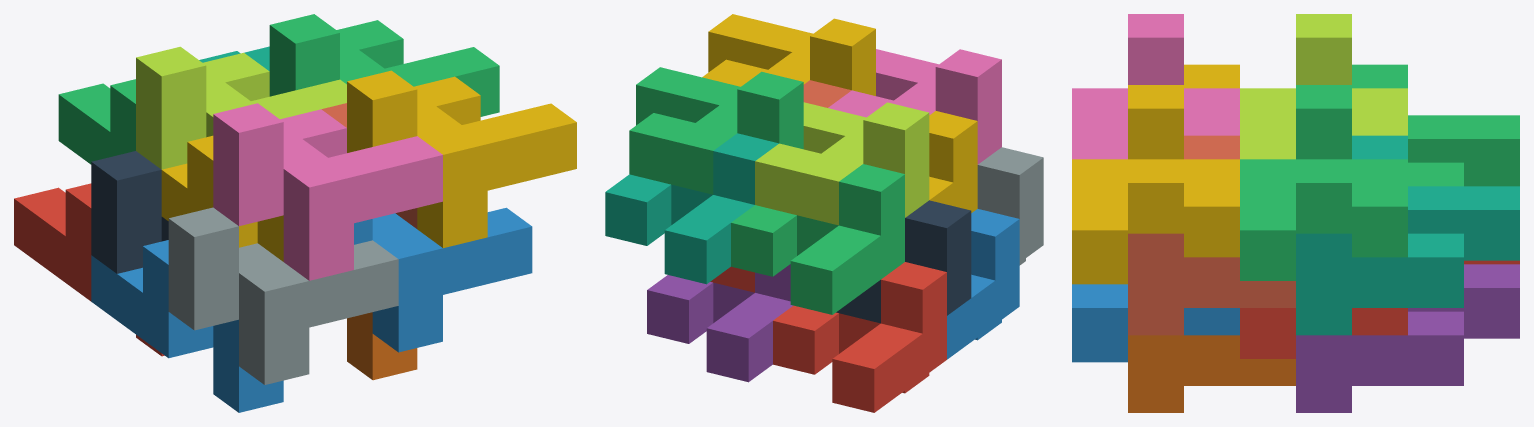
Rendered from tiling.obj.
3 renders of one model, left to right at view 1: azimuth 30°, elevation 25°; view 2: azimuth 150°, elevation 25°; view 3: azimuth 270°, elevation 25°, orthographic. The views are drawn at different scales.
Visible parts, largest first — view 1: copy_2_domain_4, copy_2_domain_2, copy_2_domain_8, copy_2_domain_3, copy_2_domain_6, copy_2_domain_7, copy_1_domain_2, copy_2_domain_1, copy_1_domain_1, copy_1_domain_3, copy_1_domain_4, copy_1_domain_6 (+2 smaller); view 2: copy_1_domain_3, copy_1_domain_1, copy_2_domain_7, copy_2_domain_3, copy_1_domain_7, copy_1_domain_5, copy_2_domain_8, copy_2_domain_4, copy_1_domain_2, copy_2_domain_1, copy_2_domain_2, copy_1_domain_4 (+2 smaller); view 3: copy_1_domain_7, copy_2_domain_8, copy_2_domain_7, copy_1_domain_5, copy_1_domain_8, copy_2_domain_3, copy_2_domain_4, copy_1_domain_3, copy_1_domain_6, copy_2_domain_6, copy_2_domain_5, copy_1_domain_4.
Part boxes in pixels (x1,y1,x2,y2): copy_2_domain_4: (213, 103, 442, 280); copy_2_domain_2: (168, 207, 398, 384); copy_2_domain_8: (347, 70, 576, 248); copy_2_domain_3: (136, 46, 346, 169); copy_2_domain_6: (354, 207, 532, 352); copy_2_domain_7: (269, 14, 499, 116); copy_1_domain_2: (91, 240, 283, 412); copy_2_domain_1: (91, 151, 168, 273); copy_1_domain_1: (14, 183, 164, 356); copy_1_domain_3: (58, 79, 135, 164); copy_1_domain_4: (161, 135, 283, 261); copy_1_domain_6: (347, 312, 417, 380); copy_1_domain_3: (731, 164, 904, 314); copy_1_domain_1: (773, 262, 946, 412); copy_2_domain_7: (629, 67, 803, 194); copy_2_domain_3: (755, 102, 929, 225); copy_1_domain_7: (605, 133, 778, 284); copy_1_domain_5: (647, 264, 793, 382); copy_2_domain_8: (702, 14, 875, 95); copy_2_domain_4: (828, 49, 1001, 164); copy_1_domain_2: (947, 209, 1019, 359); copy_2_domain_1: (836, 200, 971, 323); copy_2_domain_2: (977, 147, 1043, 265); copy_1_domain_4: (929, 111, 977, 212); copy_1_domain_7: (1296, 135, 1519, 335); copy_2_domain_8: (1072, 85, 1239, 284); copy_2_domain_7: (1240, 85, 1407, 280); copy_1_domain_5: (1296, 264, 1519, 412); copy_1_domain_8: (1128, 135, 1295, 335); copy_2_domain_3: (1240, 14, 1407, 159); copy_2_domain_4: (1072, 14, 1239, 159); copy_1_domain_3: (1352, 64, 1519, 186); copy_1_domain_6: (1128, 335, 1295, 412); copy_2_domain_6: (1072, 284, 1239, 362); copy_2_domain_5: (1240, 308, 1407, 358); copy_1_domain_4: (1184, 64, 1239, 88).
Bounding box in the file's own units: 8 × 6 × 8.
